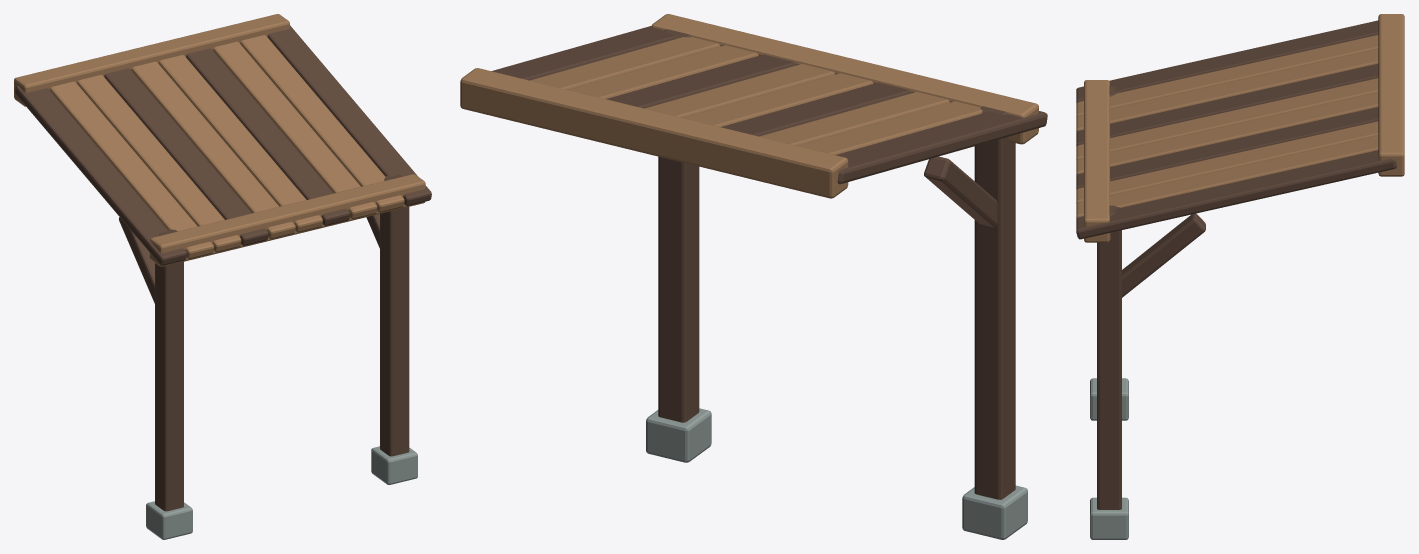
Rendered from attachment_work_canopy_2m__attachments.glb.
The picture shows the model from 3 angles, left to right: view 1: azimuth 30°, elevation 25°; view 2: azimuth 150°, elevation 25°; view 3: azimuth 270°, elevation 25°; orthographic projection. The views are drawn at different scales.
Visible parts, largest first — view 1: attachment_work_canopy_2m__attachments__mesh_00; view 2: attachment_work_canopy_2m__attachments__mesh_00; view 3: attachment_work_canopy_2m__attachments__mesh_00.
Boxes of the visible parts, x1,y1,x2,y2 form: attachment_work_canopy_2m__attachments__mesh_00: (14, 14, 431, 539); attachment_work_canopy_2m__attachments__mesh_00: (460, 14, 1047, 539); attachment_work_canopy_2m__attachments__mesh_00: (1076, 14, 1404, 539).
Bounding box in the file's own units: 2.19 × 2.78 × 2.12.
